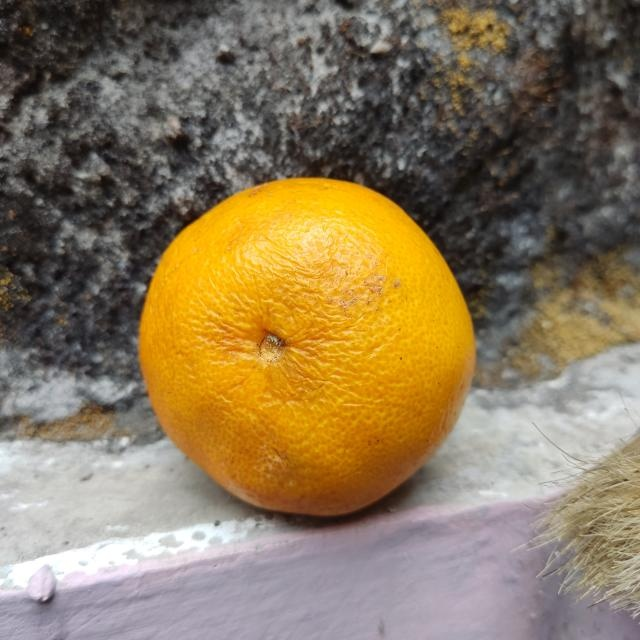agrume: (137, 173, 478, 521)
